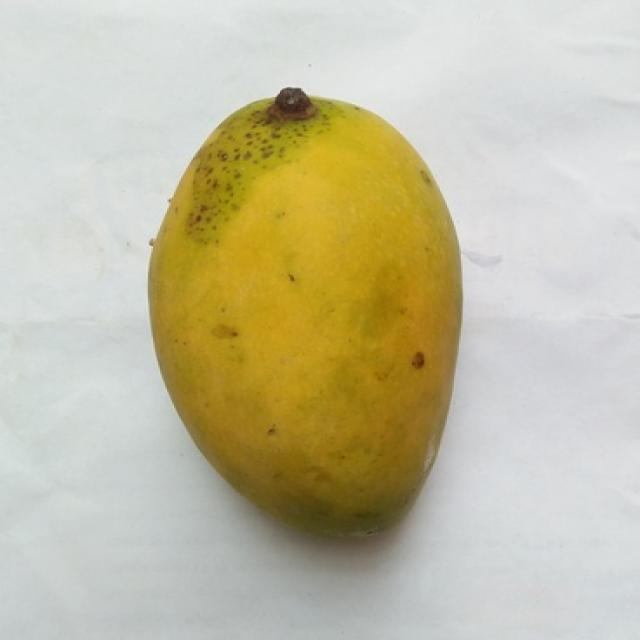Mango: (150, 97, 461, 527)
